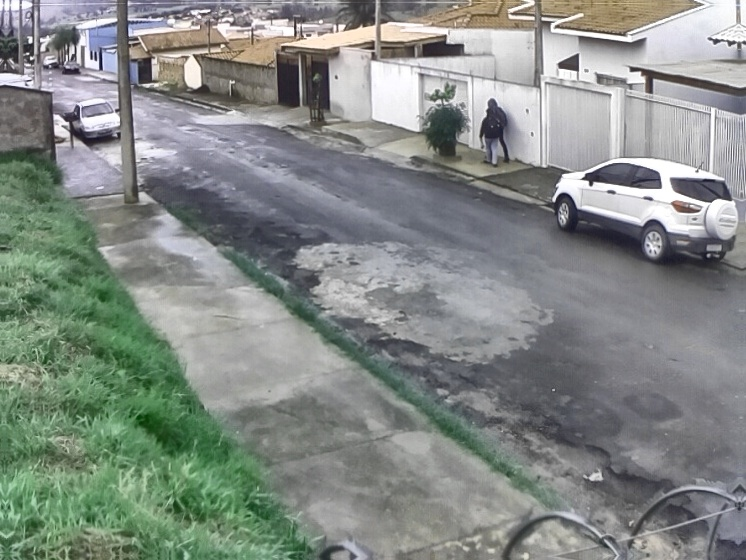person: (485, 98, 510, 164), (478, 107, 502, 168)
